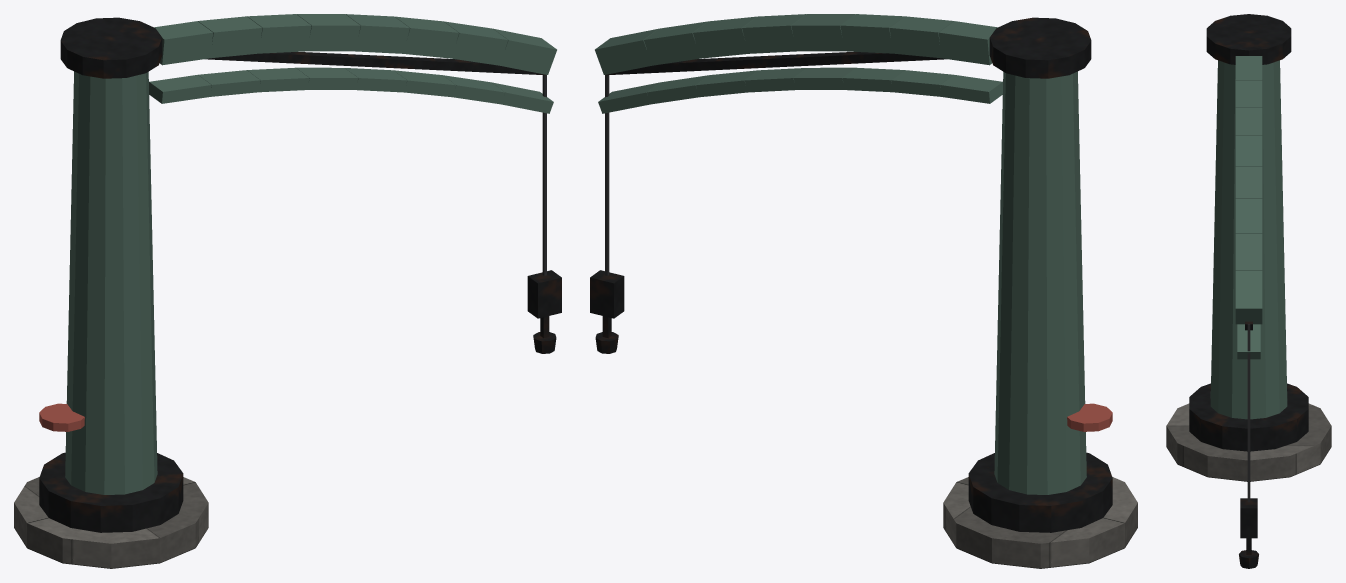
File: A_crane.glb
3 views of the same model, side by side, from view 1: azimuth 30°, elevation 25°; view 2: azimuth 150°, elevation 25°; view 3: azimuth 270°, elevation 25° (orthographic). The views are drawn at different scales.
Parts seen in each view (by area): view 1: A_crane; view 2: A_crane; view 3: A_crane.
Part boxes in pixels (bbox=[...]): A_crane: bbox=[14, 14, 561, 568]; A_crane: bbox=[590, 14, 1137, 568]; A_crane: bbox=[1166, 14, 1331, 568].
Size of the model in its own units: 6.6 by 5.82 by 2.1.
5 materials, 2 textured.
